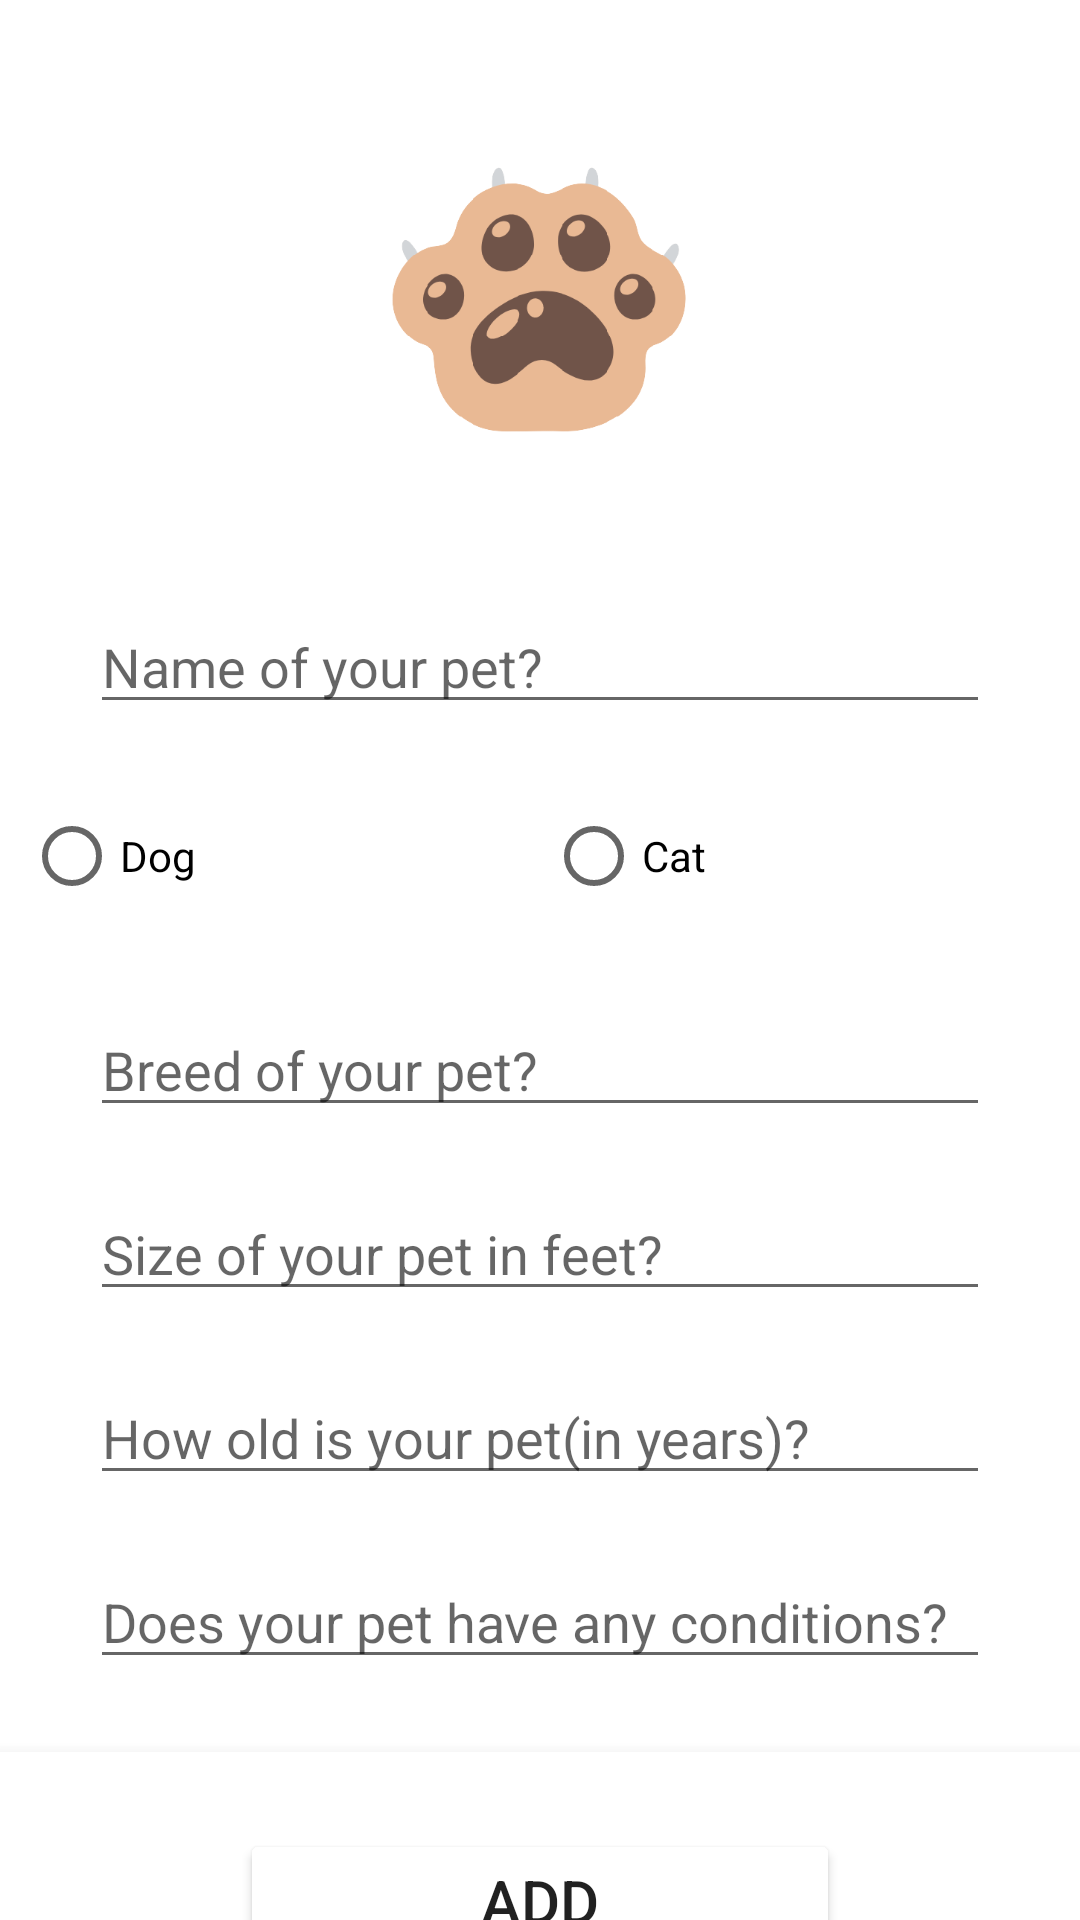

Screen size 1080 x 1920. Icon name, then its center in pixels as (x,y):
paw: (539,300)
